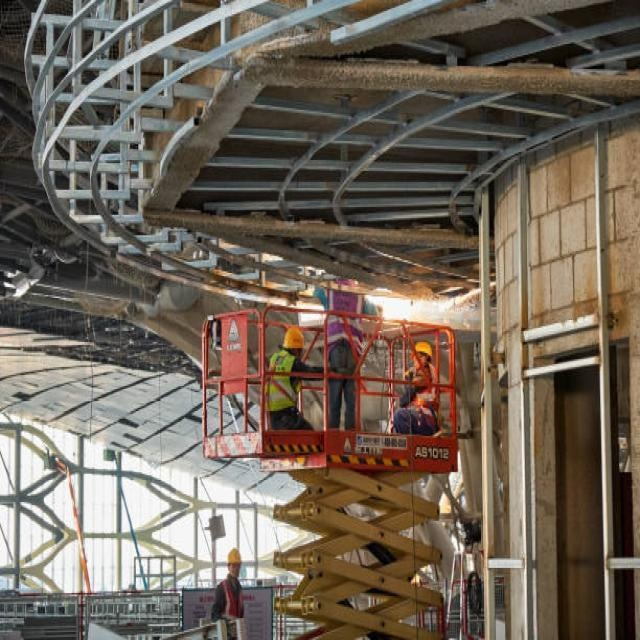Arnes_seguridad: (267, 353, 293, 408)
